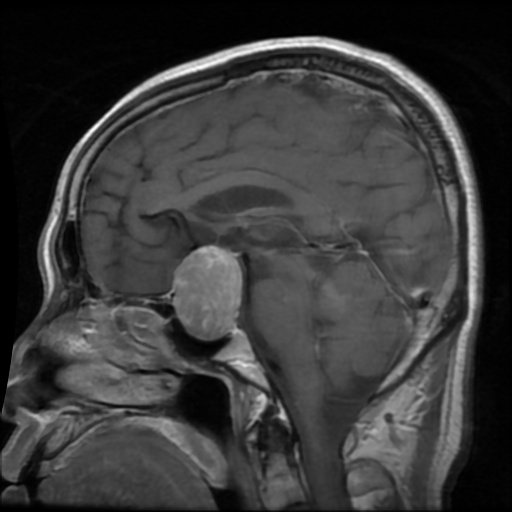pituitary: (171, 245, 241, 340)
